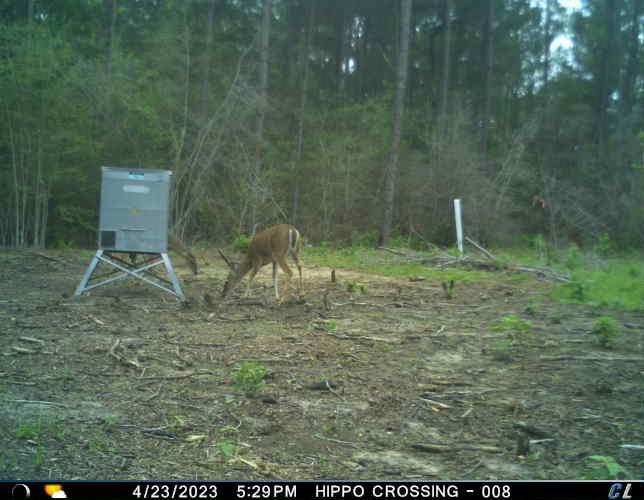Deer: (219, 221, 308, 304), (167, 226, 199, 276)
